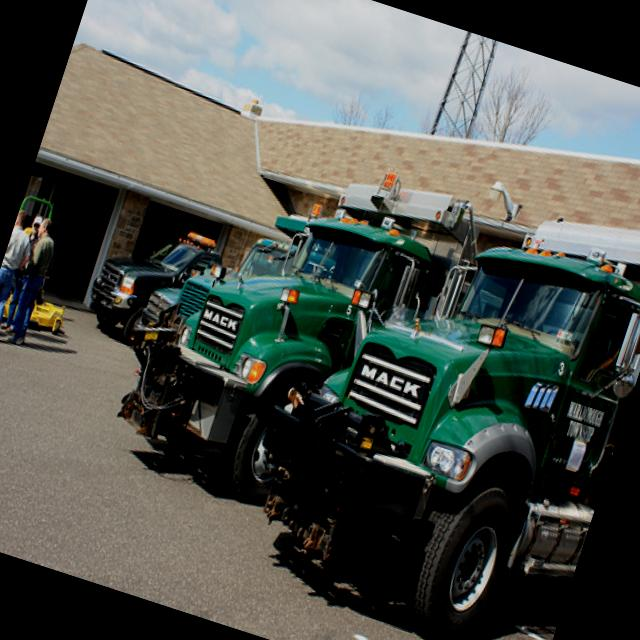Vehicle: (237, 152, 640, 640), (129, 121, 532, 552), (72, 208, 232, 362), (78, 208, 230, 365)
